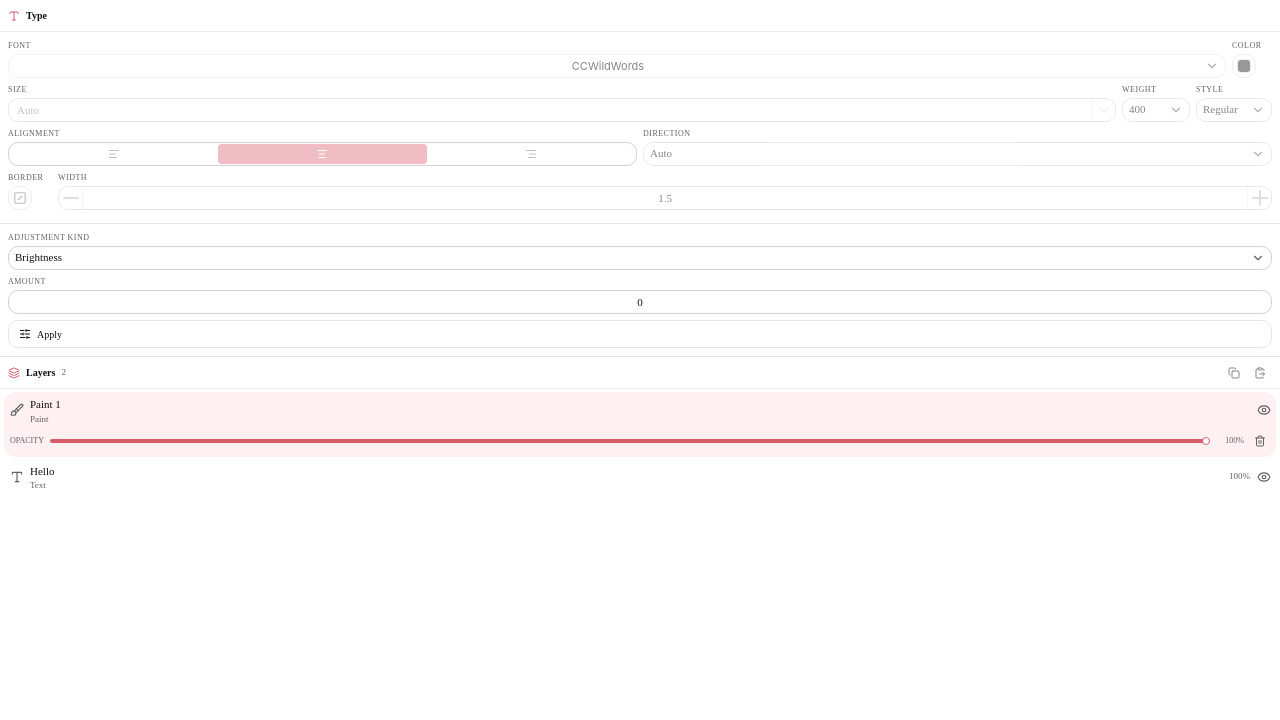
Test case: greenfield editor › ignores a second apply while the first is still in flight
Click the button "Apply": point(25, 334) [8,320,1272,348]
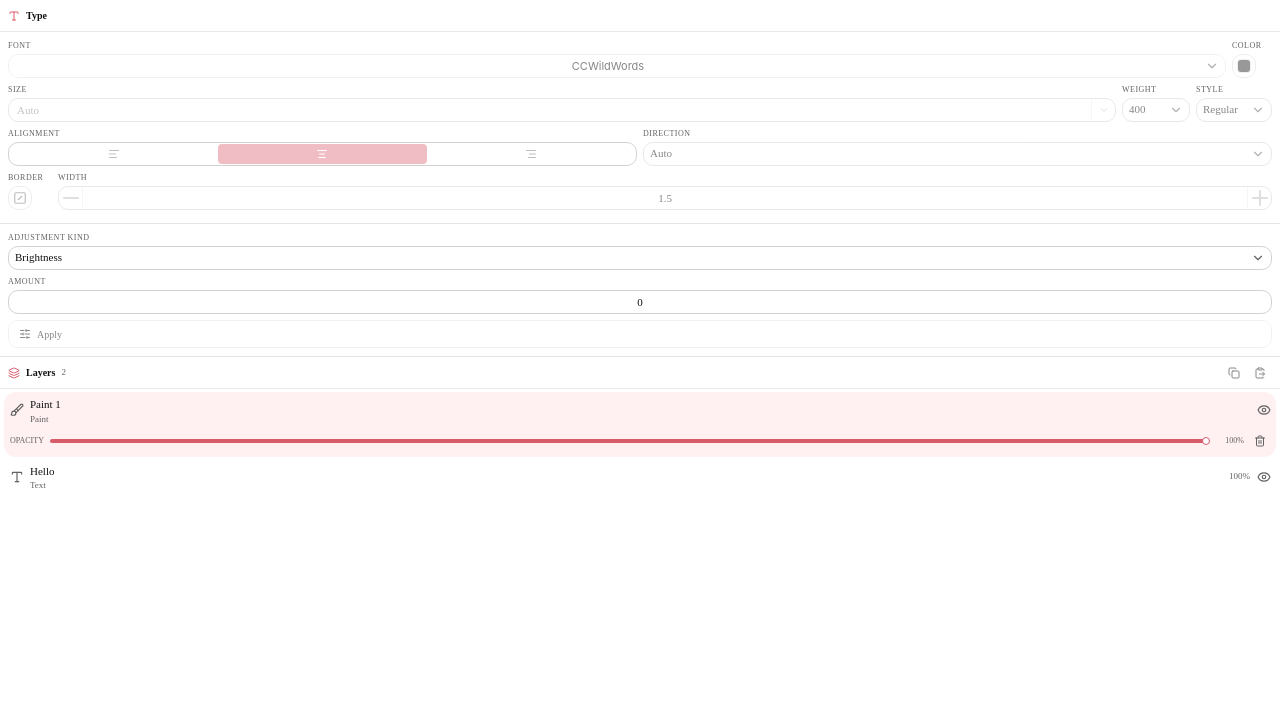
Expected: the button "Apply" is disabled
Click the button "Apply": point(25, 334) [8,320,1272,348]
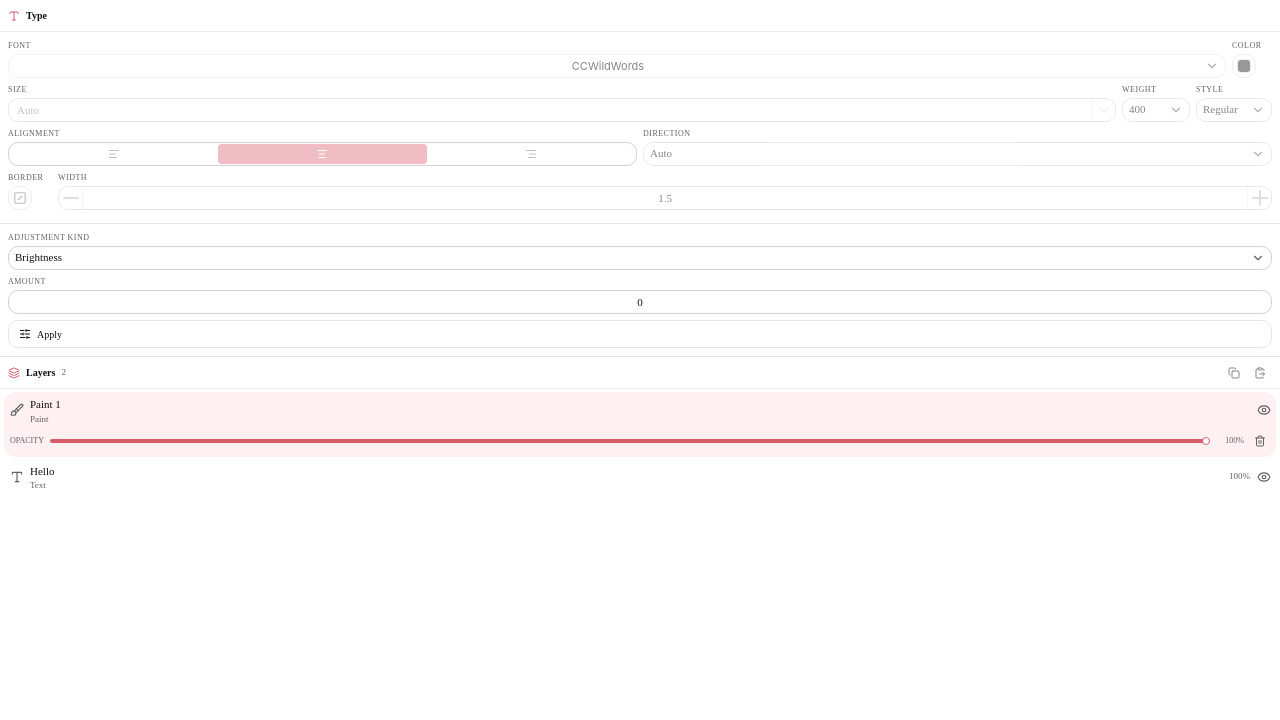
Expected: the button "Apply" is enabled, [8,320,1272,348]
